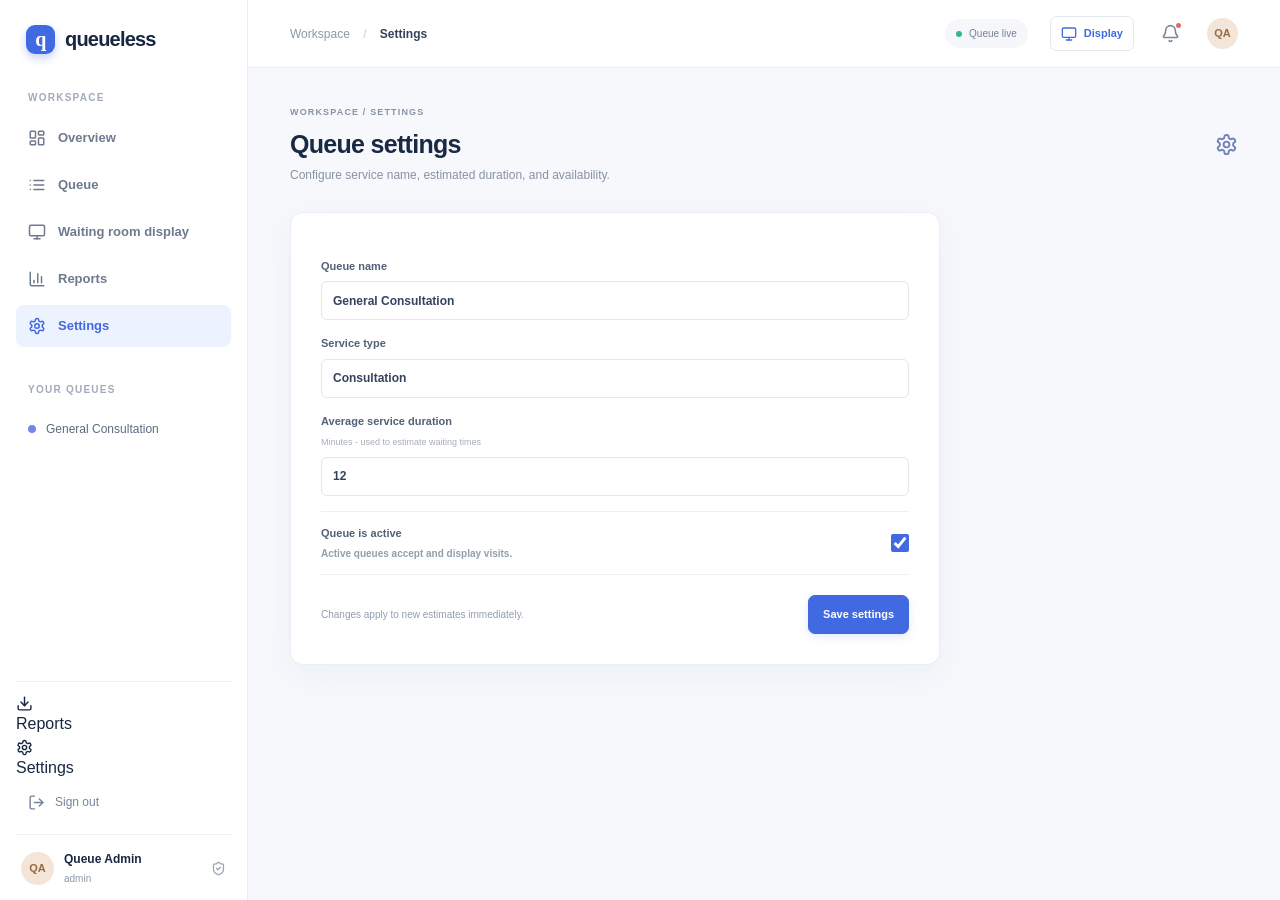
Test: QueueLess views › saves administrator queue settings
Replace the text in the number field with "18" at [615, 476], box [321, 456, 909, 496]
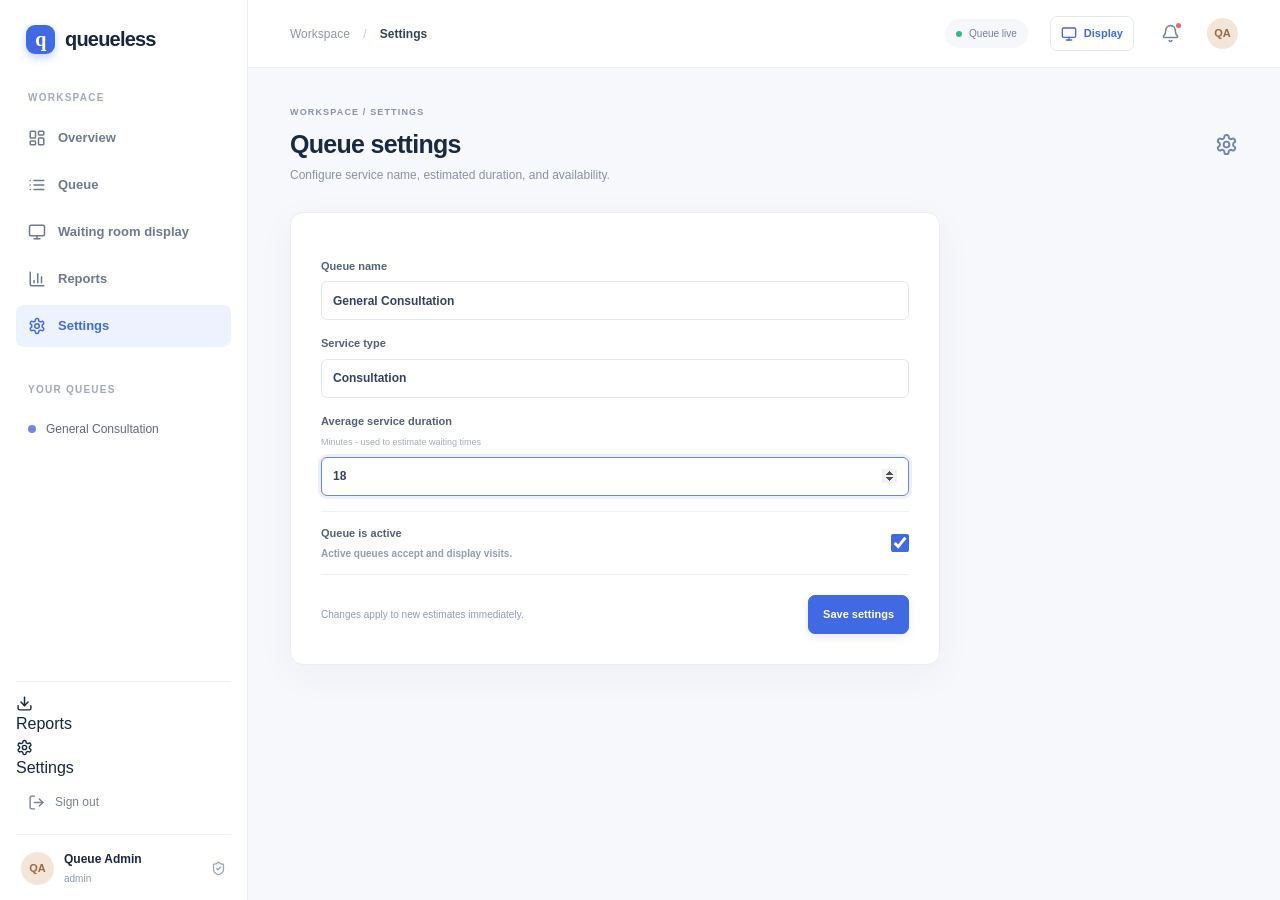
Click the button "Save settings" at [859, 614], box [808, 595, 909, 634]
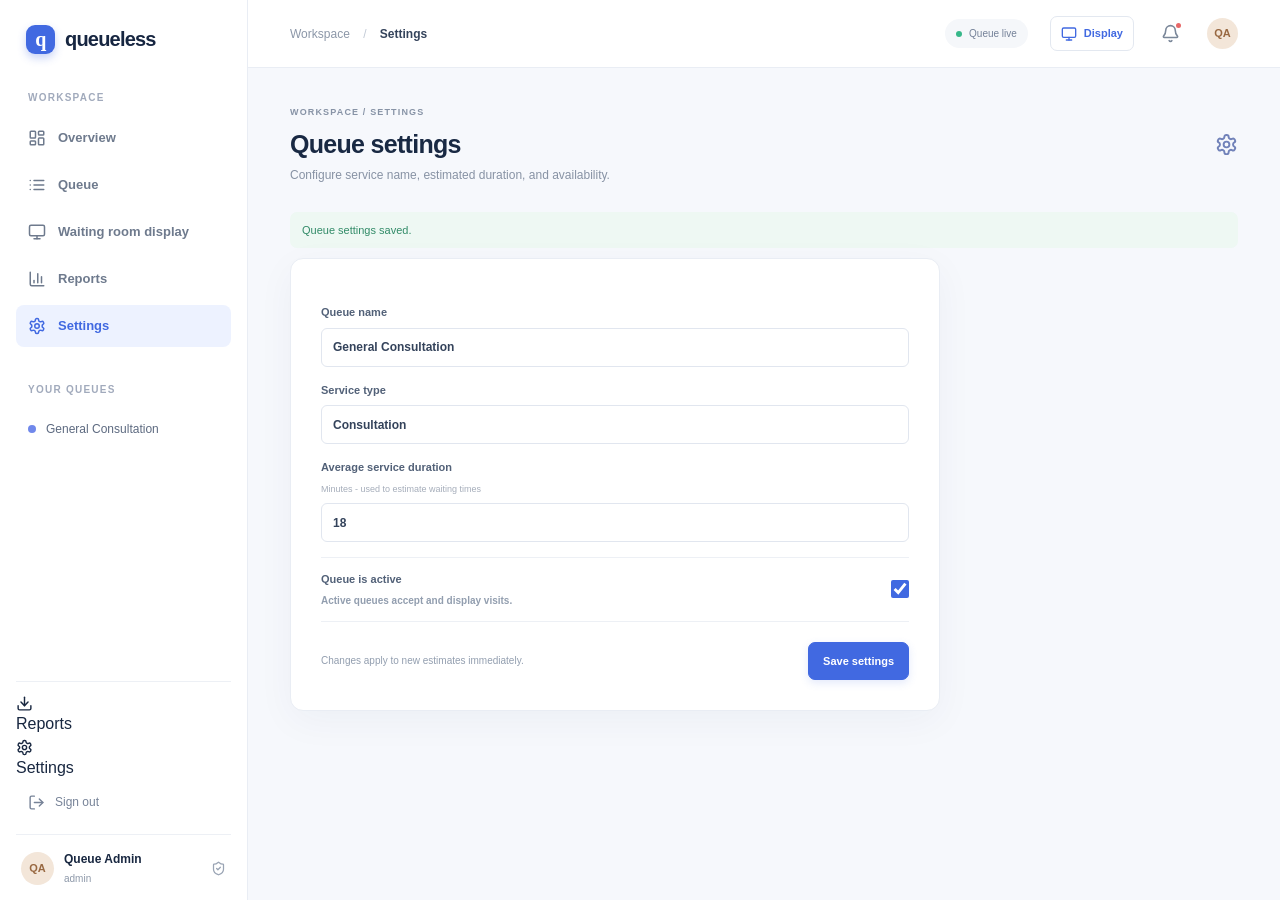
Expected: the text "Queue settings saved." is shown, [290, 212, 1238, 248]
